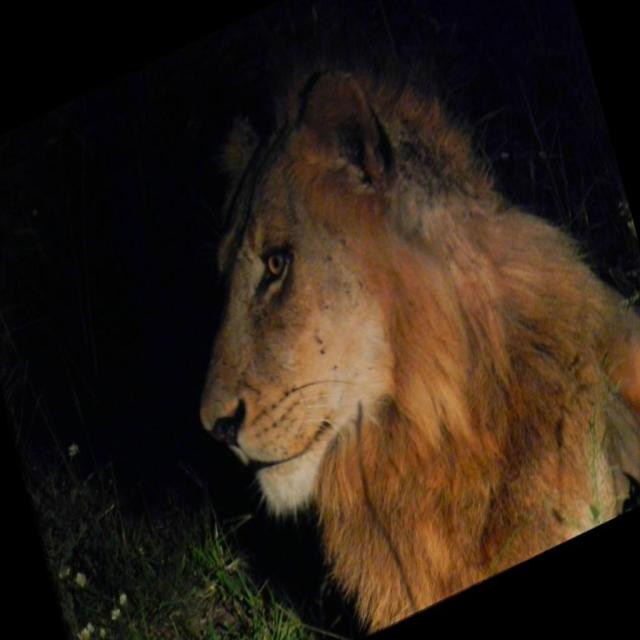Lion: (128, 0, 640, 639)
